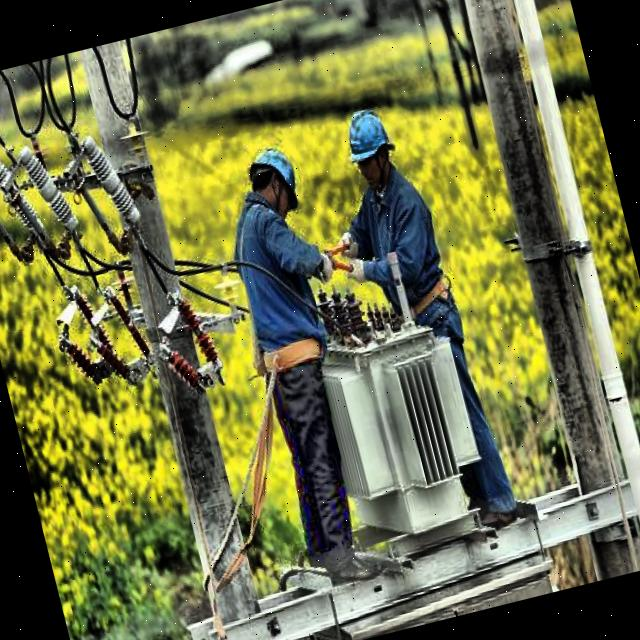helmet: (336, 101, 404, 196), (240, 138, 308, 225)
